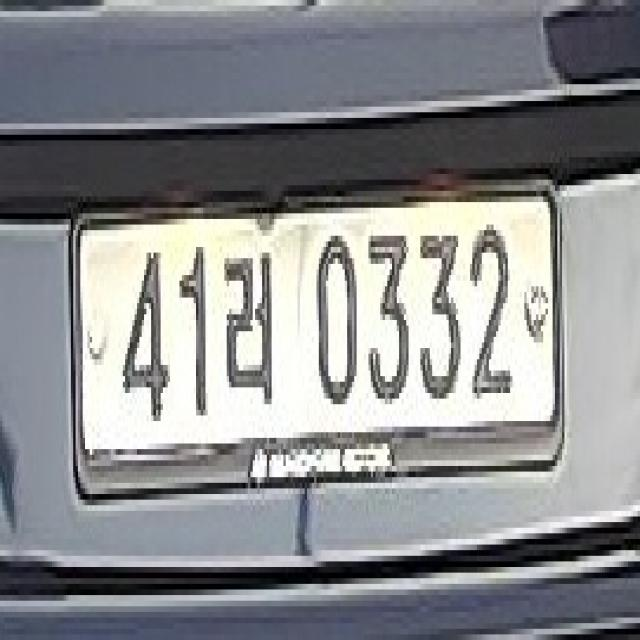0: (314, 230, 359, 410)
1: (177, 242, 208, 416)
2: (465, 225, 510, 393)
3: (420, 224, 466, 410), (364, 235, 411, 398)
4: (118, 253, 170, 427)
leo: (222, 253, 279, 404)
license_plate: (71, 180, 560, 454)
